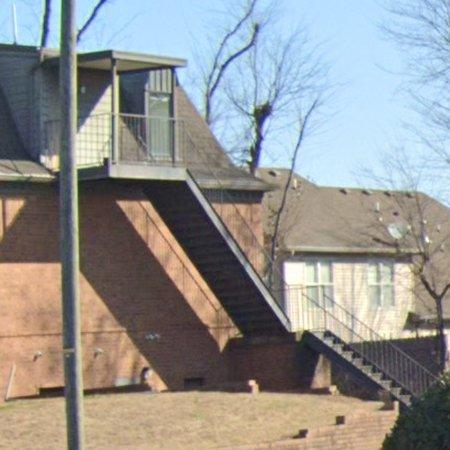stairs: (143, 170, 289, 336), (286, 285, 440, 405)
